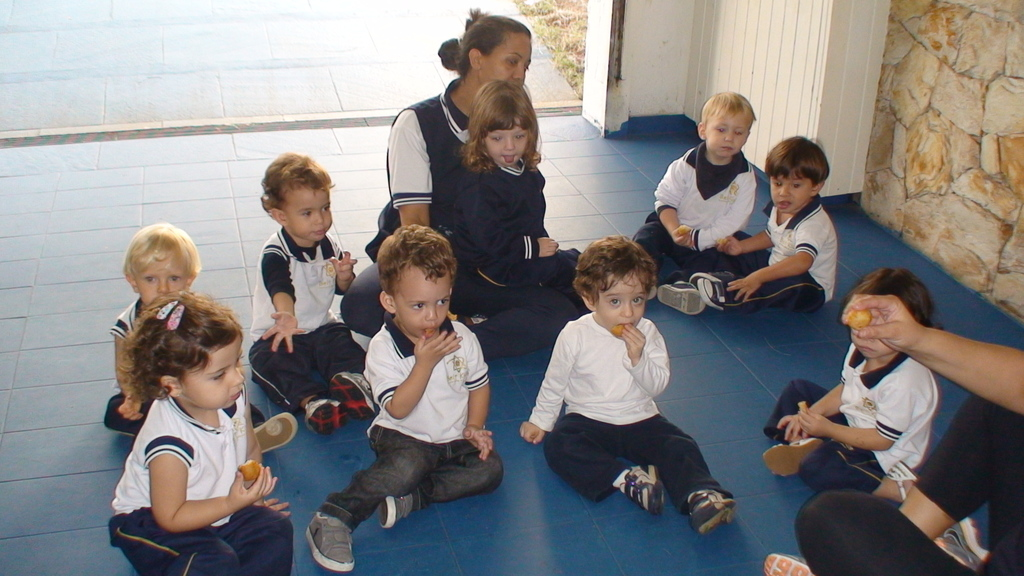Human-face: (181, 331, 244, 408), (397, 266, 452, 342), (598, 271, 644, 339), (135, 253, 188, 306), (479, 33, 531, 85), (289, 189, 332, 243), (483, 118, 529, 166), (771, 170, 816, 214), (703, 116, 750, 158), (851, 335, 890, 367)
